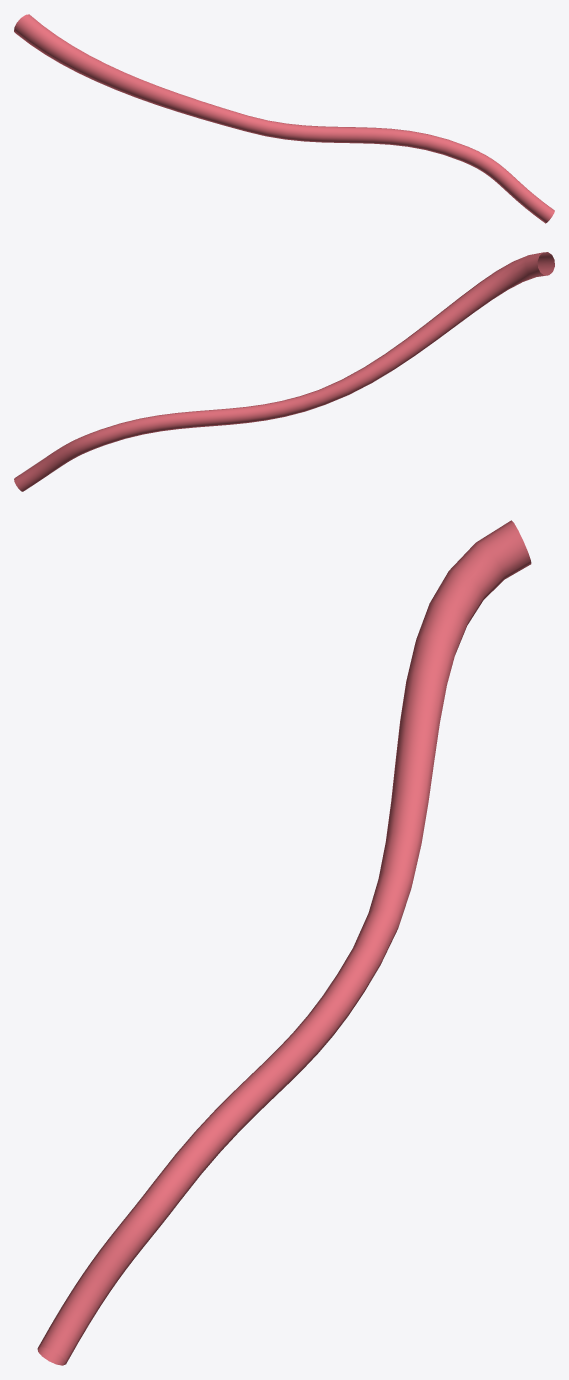
3 views of the same model, one above another, from view 1: azimuth 30°, elevation 25°; view 2: azimuth 210°, elevation 25°; view 3: azimuth 270°, elevation 25° (orthographic). The views are drawn at different scales.
Visible parts, largest first — view 1: ZA_d3659a486c505fce; view 2: ZA_d3659a486c505fce; view 3: ZA_d3659a486c505fce.
Part boxes in pixels (x1,y1,x2,y2): ZA_d3659a486c505fce: (14, 14, 554, 223); ZA_d3659a486c505fce: (14, 252, 554, 491); ZA_d3659a486c505fce: (37, 520, 531, 1365).
Bounding box in the file's own units: 0.0407 × 0.0204 × 0.0205.
